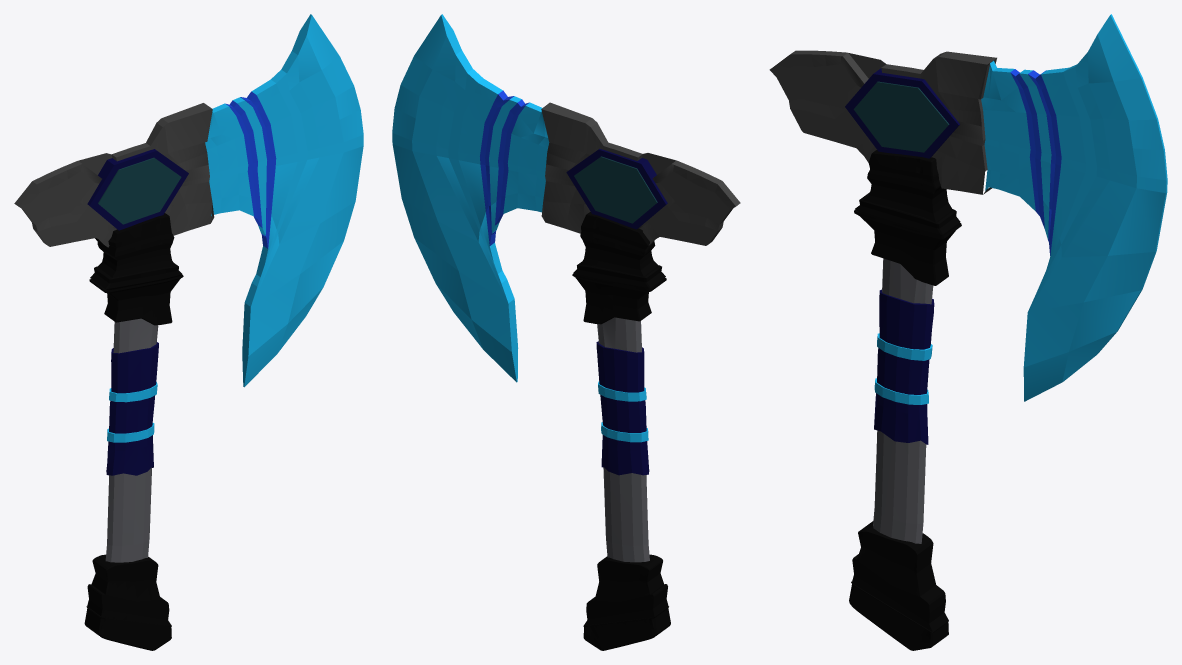
The model's file is exotic-voidsplitter.glb.
3 views of the same model, side by side, from view 1: azimuth 30°, elevation 25°; view 2: azimuth 150°, elevation 25°; view 3: azimuth 330°, elevation 25° (orthographic). The views are drawn at different scales.
Parts seen in each view (by area): view 1: Cube.017; view 2: Cube.017; view 3: Cube.017.
Boxes of the visible parts, box(x1,y1,x2,y2) form: Cube.017: box(14, 14, 363, 650); Cube.017: box(392, 14, 740, 650); Cube.017: box(769, 14, 1167, 650).
Size of the model in its own units: 0.736 by 1.2 by 0.061.
